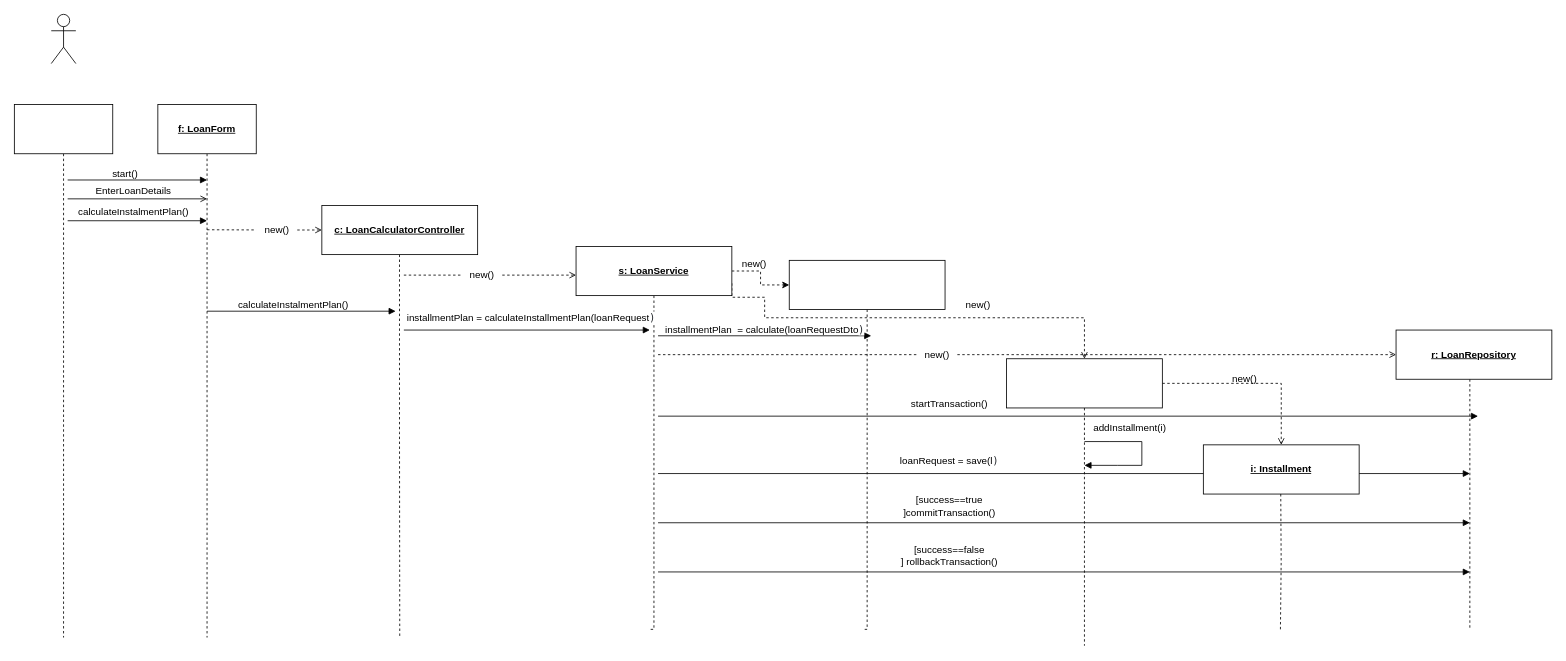
Some shapes in this 1566 by 661 pixel diagram are drawn without their labels. Here are the shapes that lost their labels. From the top down, the box of each, then its label:
(50, 14, 76, 64): Actor
(788, 260, 945, 310): c: Calculator
(1006, 358, 1162, 408): l: LoanRequest
